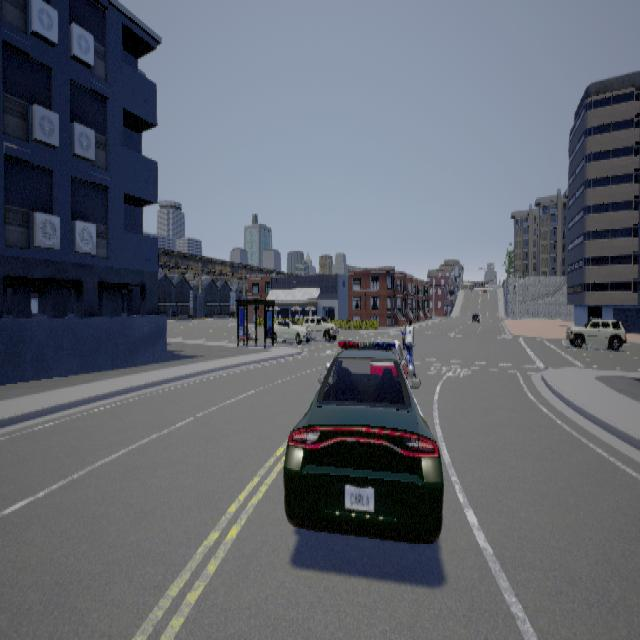bike: (398, 316, 423, 392)
vehicle: (282, 337, 443, 542), (565, 315, 626, 349), (273, 315, 338, 344), (468, 306, 482, 328)
